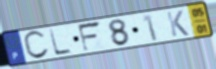1: (142, 13, 159, 42)
8: (107, 18, 132, 47)
C: (22, 30, 51, 61)
F: (76, 20, 103, 54)
K: (165, 9, 191, 38)
L: (47, 28, 74, 57)
